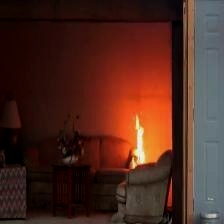fire: (128, 114, 157, 159)
